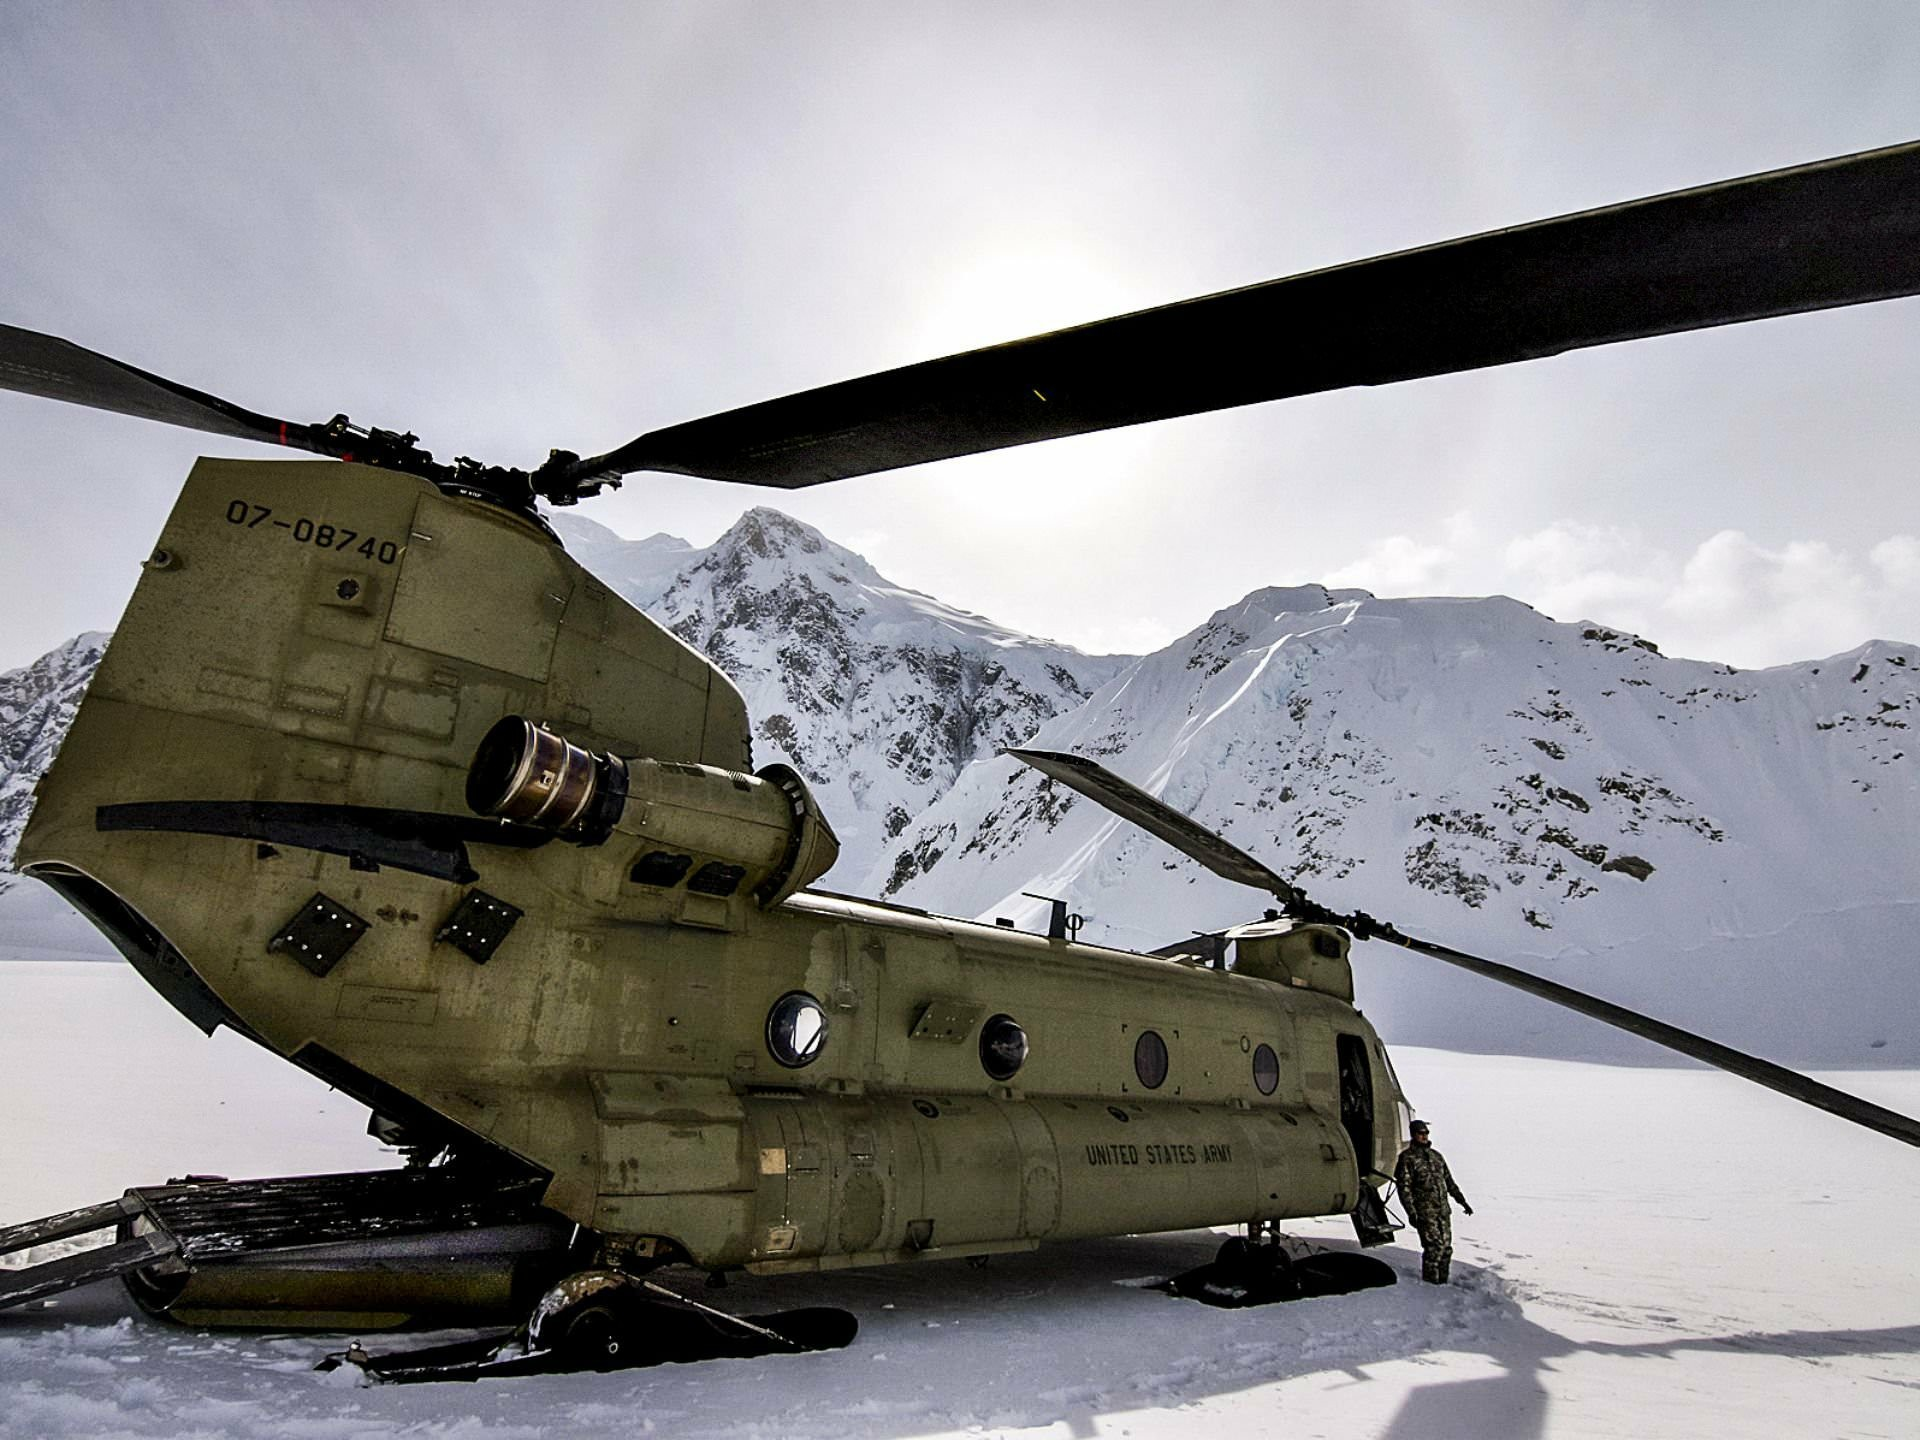chinook: (20, 321, 1504, 1393)
